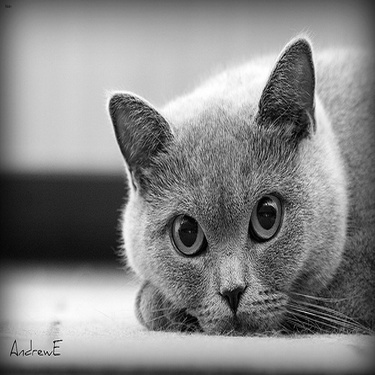cat: (107, 23, 368, 338)
